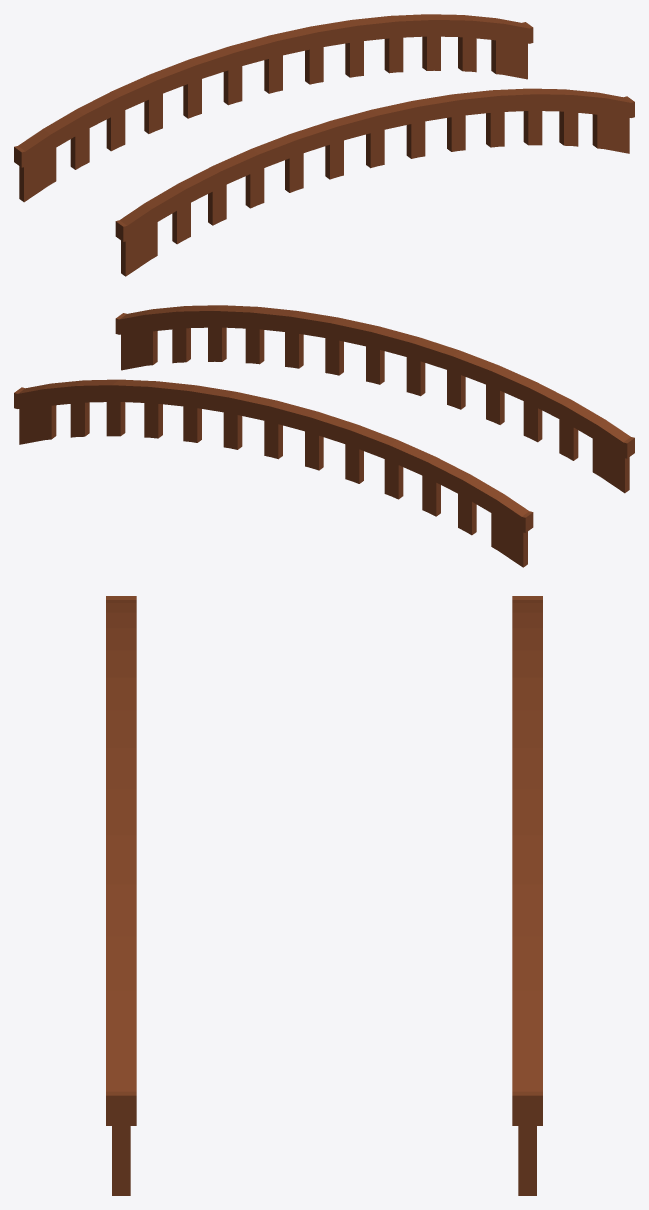
Rendered from Bridge_new02.fbx.
3 renders of one model, top to bottom at view 1: azimuth 30°, elevation 25°; view 2: azimuth 150°, elevation 25°; view 3: azimuth 270°, elevation 25°, orthographic. The views are drawn at different scales.
Visible parts, largest first — view 1: Cube.002; view 2: Cube.002; view 3: Cube.002.
Part boxes in pixels (bbox=[...]): Cube.002: bbox=[14, 14, 634, 276]; Cube.002: bbox=[14, 305, 634, 567]; Cube.002: bbox=[106, 596, 542, 1195].
Size of the model in its own units: 837 by 158 by 310.
